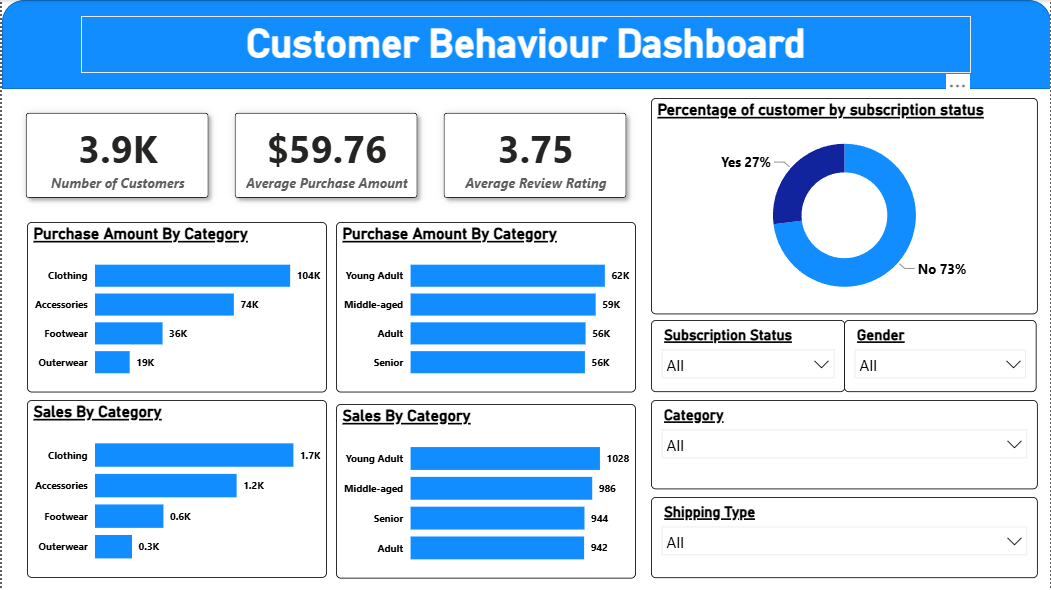

The dashboard page shown, as its layout file describes it:
{"tool":"powerbi","page":{"name":"Page 1","canvas":[1280,720],"ordinal":0},"visuals":[{"type":"cardVisual","fields":{"Data":["public customer.Number of Customers","public customer.Average Purchase Amount","public customer.Average Review Rating"]},"box":[0,108.7,791.4,162.4],"z":0},{"type":"shape","box":[0,0,1280,108.7],"z":1000},{"type":"donutChart","title":"Percentage of customer by subscription status","fields":{"Y":["Count(public customer.customer_id)"],"Category":["public customer.subscription_status"]},"box":[791.4,119.7,472.1,264.3],"z":2000},{"type":"barChart","title":"Purchase Amount By Category","fields":{"Category":["public customer.category"],"Y":["Sum(public customer.purchase_amount)"]},"box":[30.3,271.1,366.1,207.8],"z":3000},{"type":"barChart","title":"Sales By Category","fields":{"Category":["public customer.category"],"Y":["CountNonNull(public customer.purchase_amount)"]},"box":[30.3,488.6,366.1,217.5],"z":4000},{"type":"slicer","fields":{"Values":["public customer.subscription_status"]},"box":[791.4,390.9,236.7,88.1],"z":5000},{"type":"slicer","fields":{"Values":["public customer.gender"]},"box":[1028.1,390.9,235.4,88.1],"z":6000},{"type":"slicer","fields":{"Values":["public customer.category"]},"box":[791.4,488.6,472.1,108.7],"z":7000},{"type":"slicer","fields":{"Values":["public customer.shipping_type"]},"box":[791.4,607,472.1,99.1],"z":8000},{"type":"clusteredBarChart","title":"Purchase Amount By Category","fields":{"Y":["Sum(public customer.purchase_amount)"],"Category":["public customer.age_group"]},"box":[407.4,271.1,366.1,207.8],"z":9000},{"type":"clusteredBarChart","title":"Sales By Category","fields":{"Y":["CountNonNull(public customer.purchase_amount)"],"Category":["public customer.age_group"]},"box":[407.4,492.7,366.1,213.3],"z":10000},{"type":"textbox","box":[96.3,19.3,1085.9,70.2],"z":11000}]}

Visuals, with their boxes in screenshot pixels (x1, y1, x2, y2), scaled from the page's 1280x720 canvas onto the 1051x590 screenshot:
cardVisual - public customer.Number of Customers x public customer.Average Purchase Amount: 0/89/650/222
shape: 0/0/1050/89
"Percentage of customer by subscription status" donutChart: 650/98/1037/315
"Purchase Amount By Category" barChart: 25/222/325/392
"Sales By Category" barChart: 25/400/325/579
slicer - public customer.subscription_status: 650/320/844/393
slicer - public customer.gender: 844/320/1037/393
slicer - public customer.category: 650/400/1037/489
slicer - public customer.shipping_type: 650/497/1037/579
"Purchase Amount By Category" clusteredBarChart: 335/222/635/392
"Sales By Category" clusteredBarChart: 335/404/635/579
textbox: 79/16/971/73
